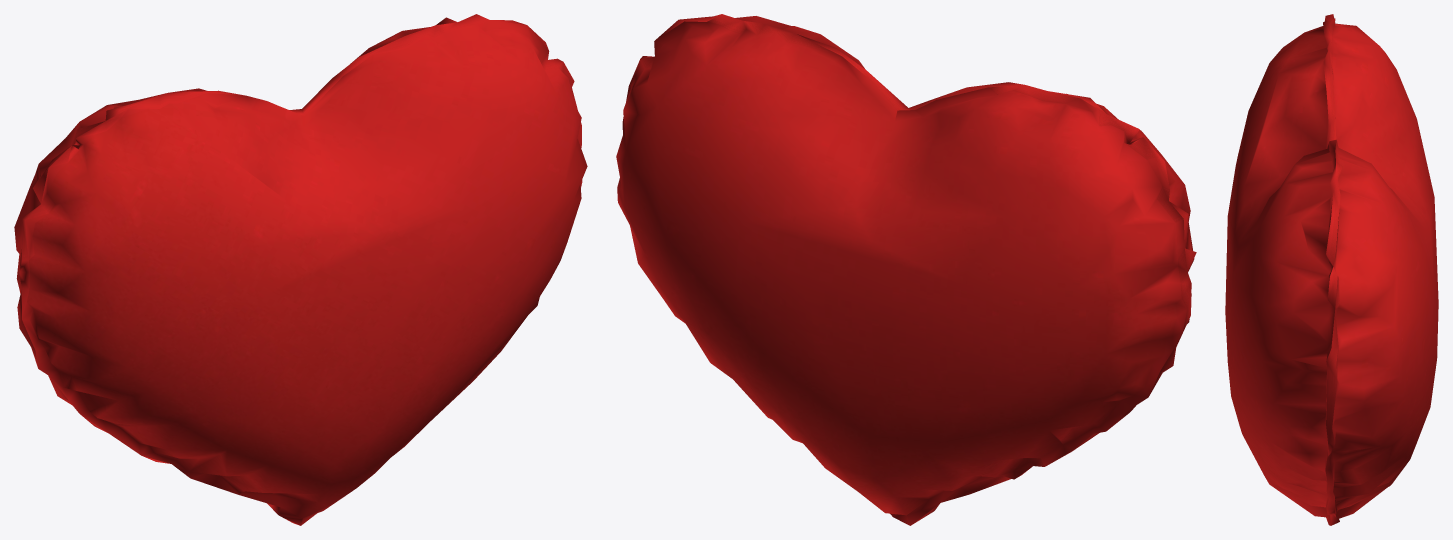
The model's file is globo.fbx.
3 renders of one model, left to right at view 1: azimuth 30°, elevation 25°; view 2: azimuth 150°, elevation 25°; view 3: azimuth 270°, elevation 25°, orthographic. The views are drawn at different scales.
Parts seen in each view (by area): view 1: Extrude_2; view 2: Extrude_2; view 3: Extrude_2.
Part boxes in pixels (x1,y1,x2,y2): Extrude_2: (14,14,587,525); Extrude_2: (616,14,1196,525); Extrude_2: (1225,14,1438,525).
Size of the model in its own units: 40.47 by 31.82 by 14.41.
Materials: 1 (1 with a texture image).
